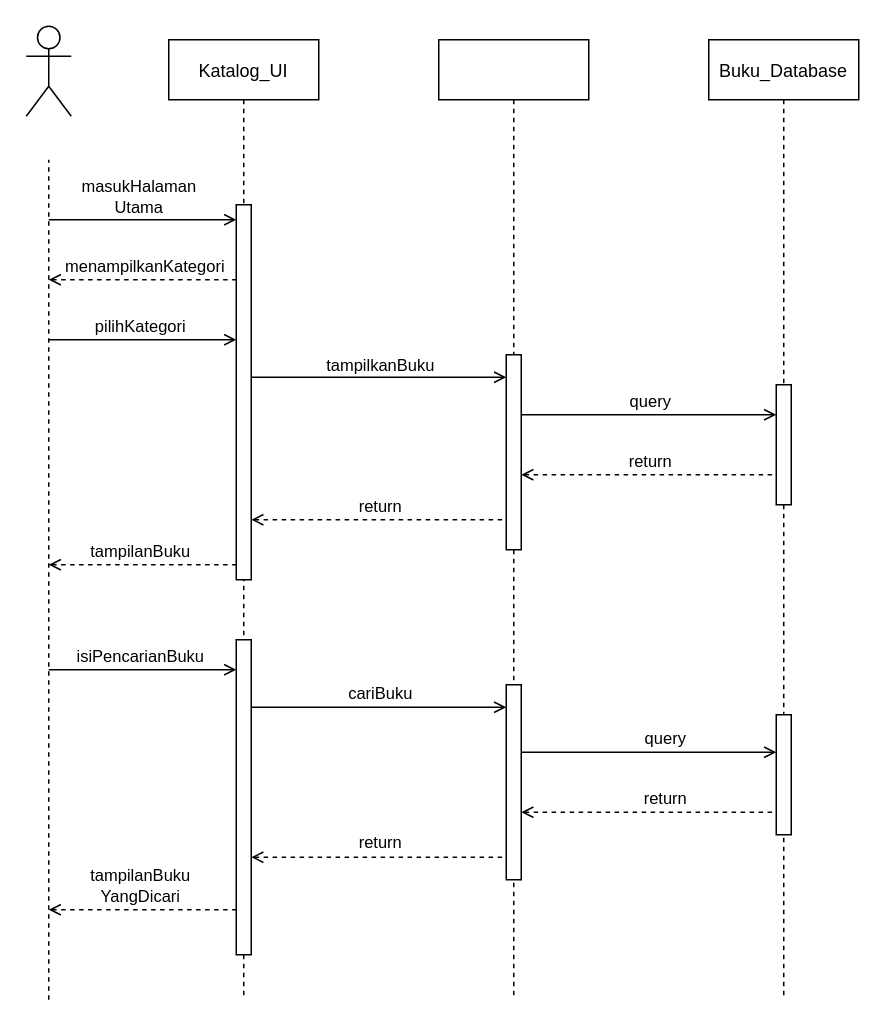
This 885x1028 diagram has some shape labels left out. The centre of each missing label's shape, as x and y in pixels:
"Katalog_ Controller" belongs at point 513,519.
"User" belongs at point 48,70.
